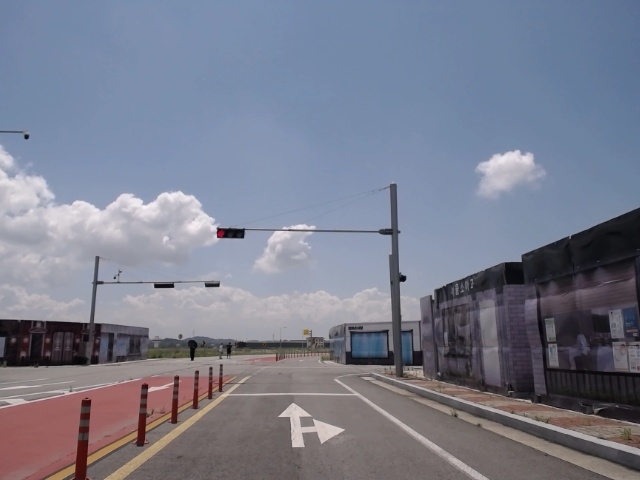red_3: (216, 228, 246, 240)
